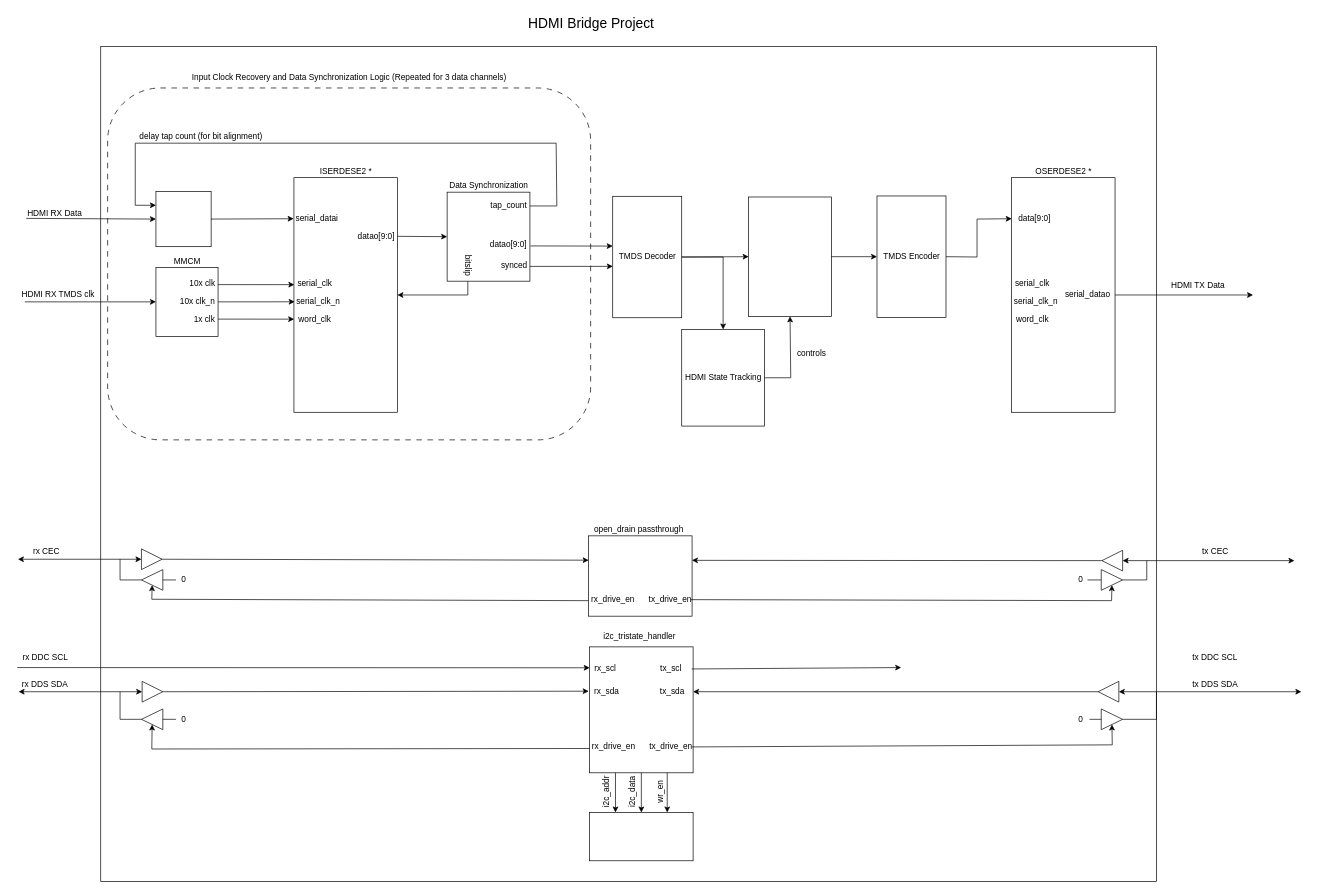
Some shapes in this 1319 by 894 pixel diagram are drawn without their labels. The shapes that lost their labels are listed below. From the top down, each one's centre as x and y in pixels, then its label:
the point at 183,219: IDELAYE2
the point at 789,256: Video Editing Pipeline
the point at 641,836: EDID BRAM
